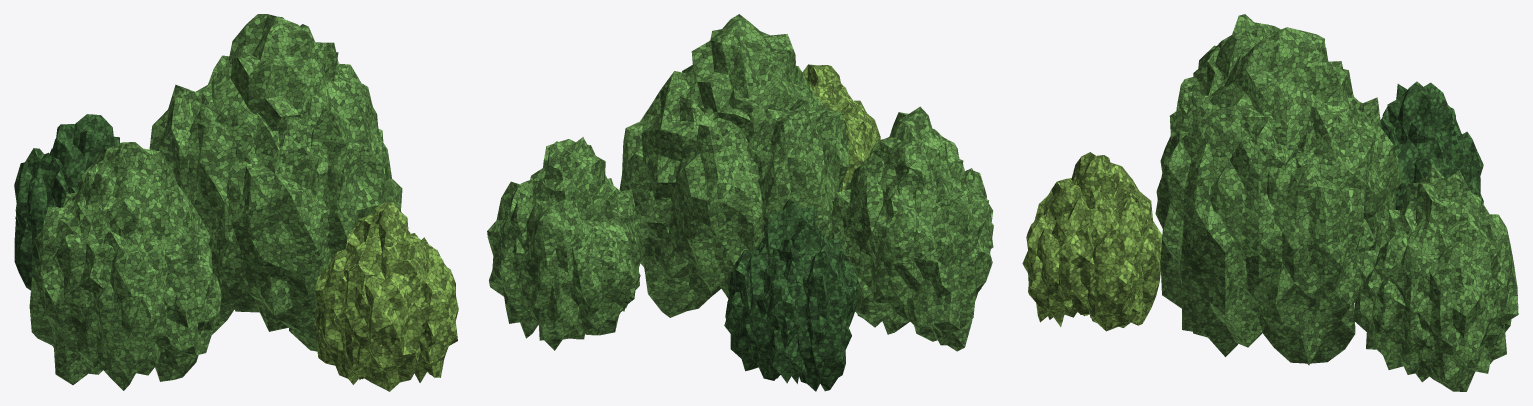
3 renders of one model, left to right at view 1: azimuth 30°, elevation 25°; view 2: azimuth 150°, elevation 25°; view 3: azimuth 270°, elevation 25°, orthographic. The views are drawn at different scales.
Parts seen in each view (by area): view 1: diameter=3;foliageMaterial=foliage;height=1.4 (×3); view 2: diameter=3;foliageMaterial=foliage;height=1.4 (×3); view 3: diameter=3;foliageMaterial=foliage;height=1.4 (×3).
Part boxes in pixels (box(x1,y1,x2,y2)): diameter=3;foliageMaterial=foliage;height=1.4 (×3): box(14, 14, 458, 391); diameter=3;foliageMaterial=foliage;height=1.4 (×3): box(487, 14, 993, 391); diameter=3;foliageMaterial=foliage;height=1.4 (×3): box(1022, 14, 1518, 391).
Bounding box in the file's own units: 2.27 × 2.32 × 1.64.
3 materials, 3 textured.
